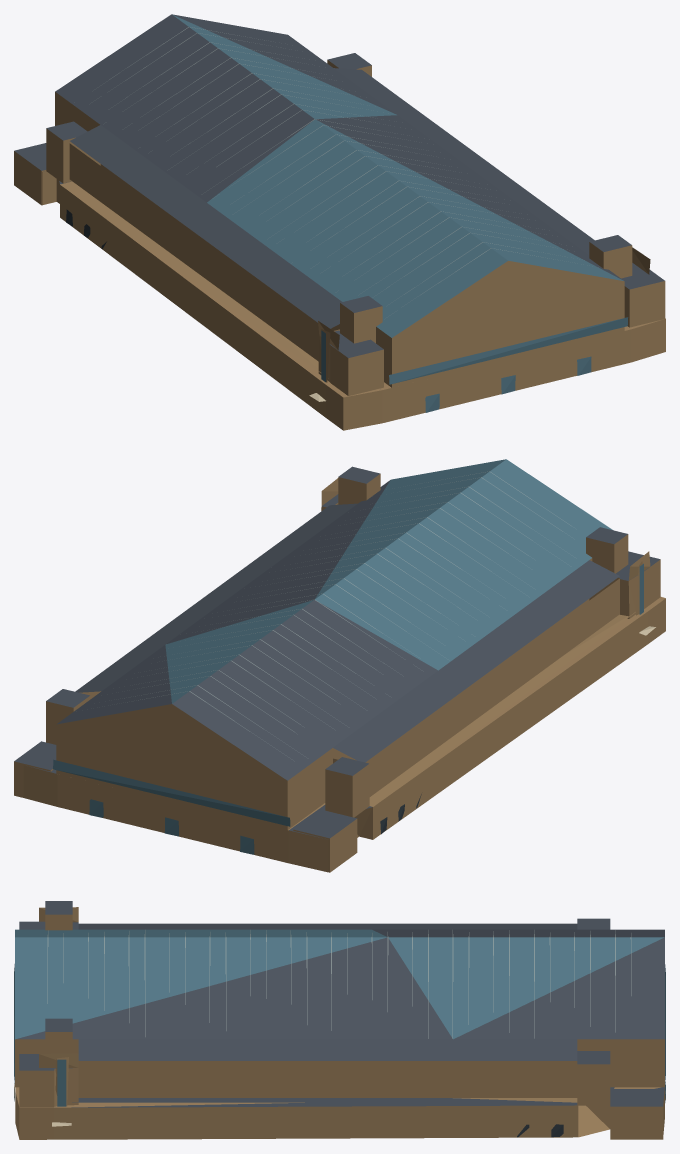
The model's file is centrale-markthal.lod2.glb.
3 renders of one model, top to bottom at view 1: azimuth 30°, elevation 25°; view 2: azimuth 150°, elevation 25°; view 3: azimuth 270°, elevation 25°, orthographic. The views are drawn at different scales.
Visible parts, largest first — view 1: lod2; view 2: lod2; view 3: lod2.
Part boxes in pixels (box(x1,y1,x2,y2)): lod2: box(14, 14, 665, 430); lod2: box(14, 459, 665, 872); lod2: box(14, 901, 665, 1139).
Bounding box in the file's own units: 75.5 × 28.25 × 131.
